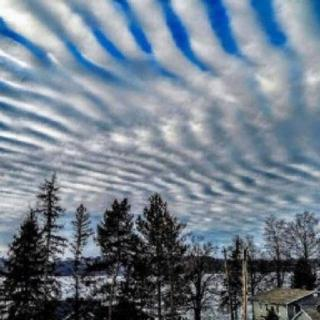Cirrocumulus: (0, 0, 320, 248)
